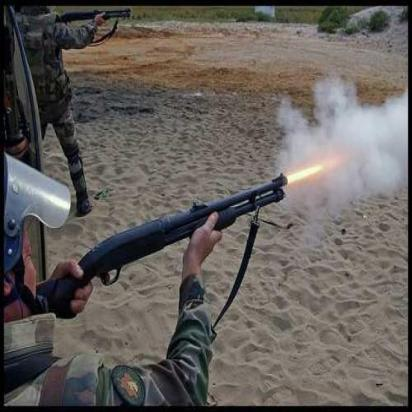Gun: (33, 170, 288, 322)
